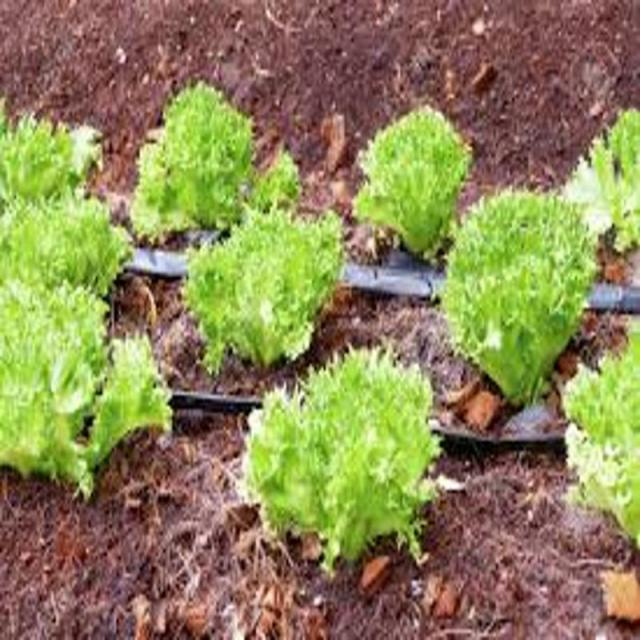Lettuce: (248, 342, 440, 568), (0, 278, 166, 493), (440, 183, 600, 405), (187, 207, 340, 378), (133, 72, 287, 240), (348, 97, 470, 263), (563, 331, 640, 554), (0, 194, 125, 308), (0, 93, 108, 206), (580, 108, 640, 252)
